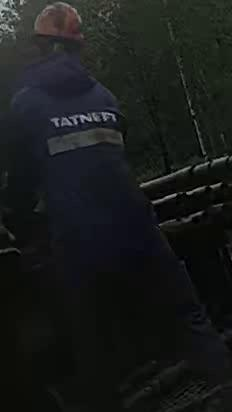gloves: (0, 216, 21, 265)
helmet: (32, 1, 84, 42)
vest: (6, 55, 131, 250)
